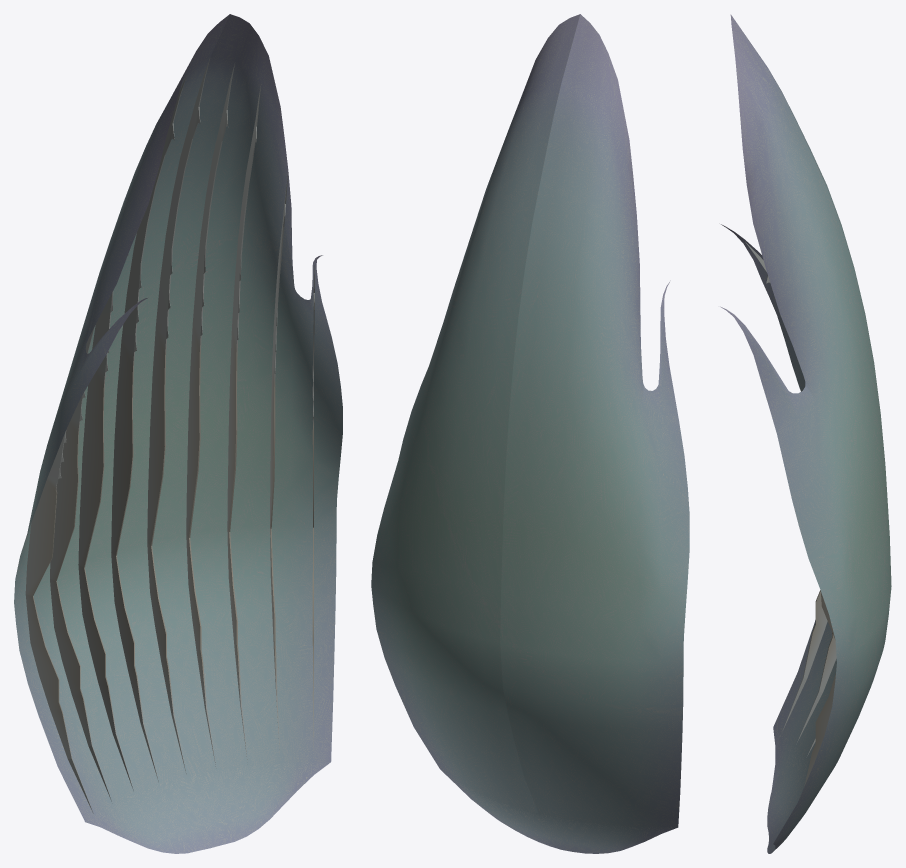
The picture shows the model from 3 angles, left to right: view 1: azimuth 30°, elevation 25°; view 2: azimuth 150°, elevation 25°; view 3: azimuth 270°, elevation 25°; orthographic projection. The views are drawn at different scales.
Visible parts, largest first — view 1: G:\FFXIV-MapTools\exports\d2f3\bg\ex1\02_dra_d2\fld\d2f3\bgp (×3); view 2: G:\FFXIV-MapTools\exports\d2f3\bg\ex1\02_dra_d2\fld\d2f3\bgp (×2); view 3: G:\FFXIV-MapTools\exports\d2f3\bg\ex1\02_dra_d2\fld\d2f3\bgp (×3).
Part boxes in pixels (x1=…): G:\FFXIV-MapTools\exports\d2f3\bg\ex1\02_dra_d2\fld\d2f3\bgp (×3): x1=14, y1=14, x2=342, y2=853; G:\FFXIV-MapTools\exports\d2f3\bg\ex1\02_dra_d2\fld\d2f3\bgp (×2): x1=371, y1=14, x2=689, y2=853; G:\FFXIV-MapTools\exports\d2f3\bg\ex1\02_dra_d2\fld\d2f3\bgp (×3): x1=720, y1=14, x2=891, y2=853.
Bounding box in the file's own units: 160 × 401 × 76.31.
